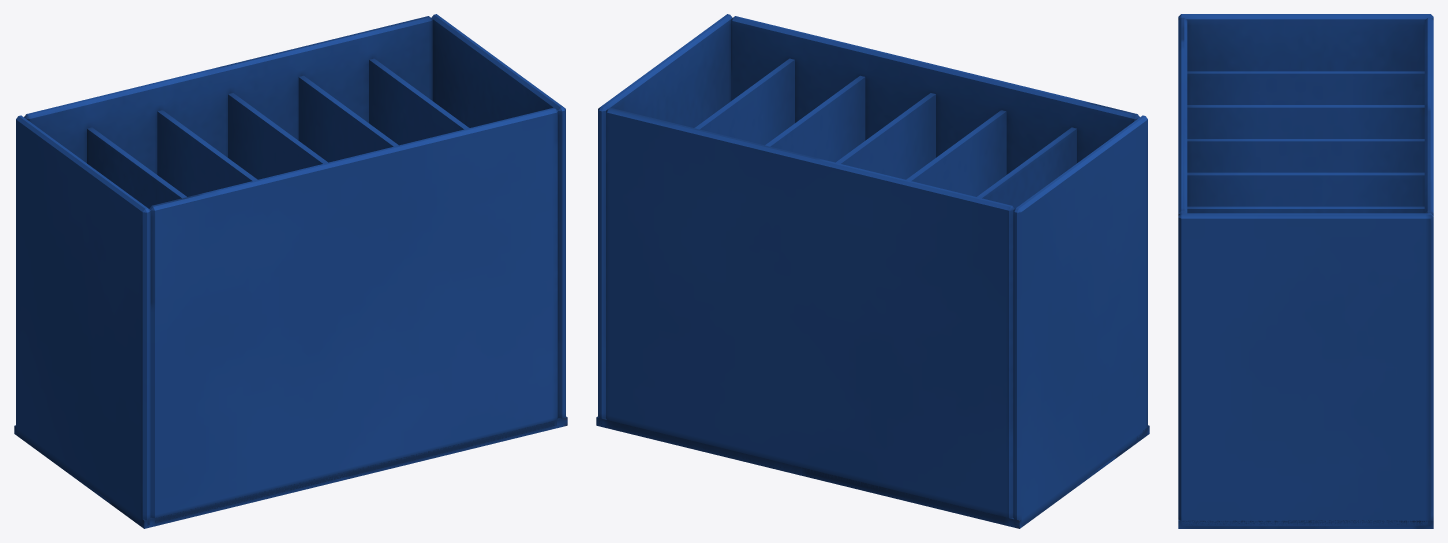
The model's file is RenewableEnergy_DeepCycleBatteryCase.fbx.
The picture shows the model from 3 angles, left to right: view 1: azimuth 30°, elevation 25°; view 2: azimuth 150°, elevation 25°; view 3: azimuth 270°, elevation 25°; orthographic projection.
Parts seen in each view (by area): view 1: DeepCycleBatteryCase; view 2: DeepCycleBatteryCase; view 3: DeepCycleBatteryCase.
Boxes of the visible parts, x1,y1,x2,y2 form: DeepCycleBatteryCase: [14, 14, 567, 528]; DeepCycleBatteryCase: [596, 14, 1149, 528]; DeepCycleBatteryCase: [1178, 14, 1433, 528].
Bounding box in the file's own units: 0.32 × 0.23 × 0.17.
